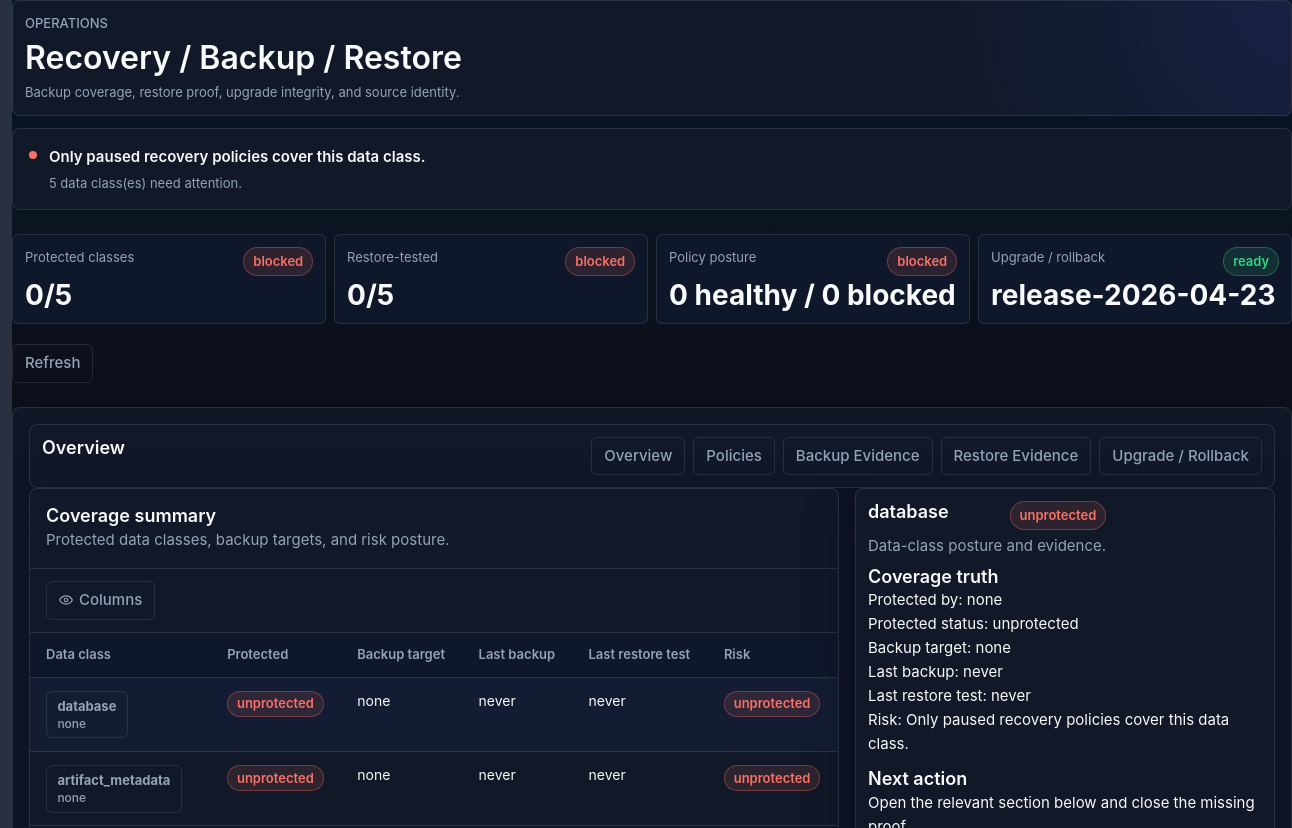
Test case: Recovery page › treats paused policies as not effective protection
The image size is (1292, 828).
Click the button "Policies" at point(734, 456), box [693,436,775,475]
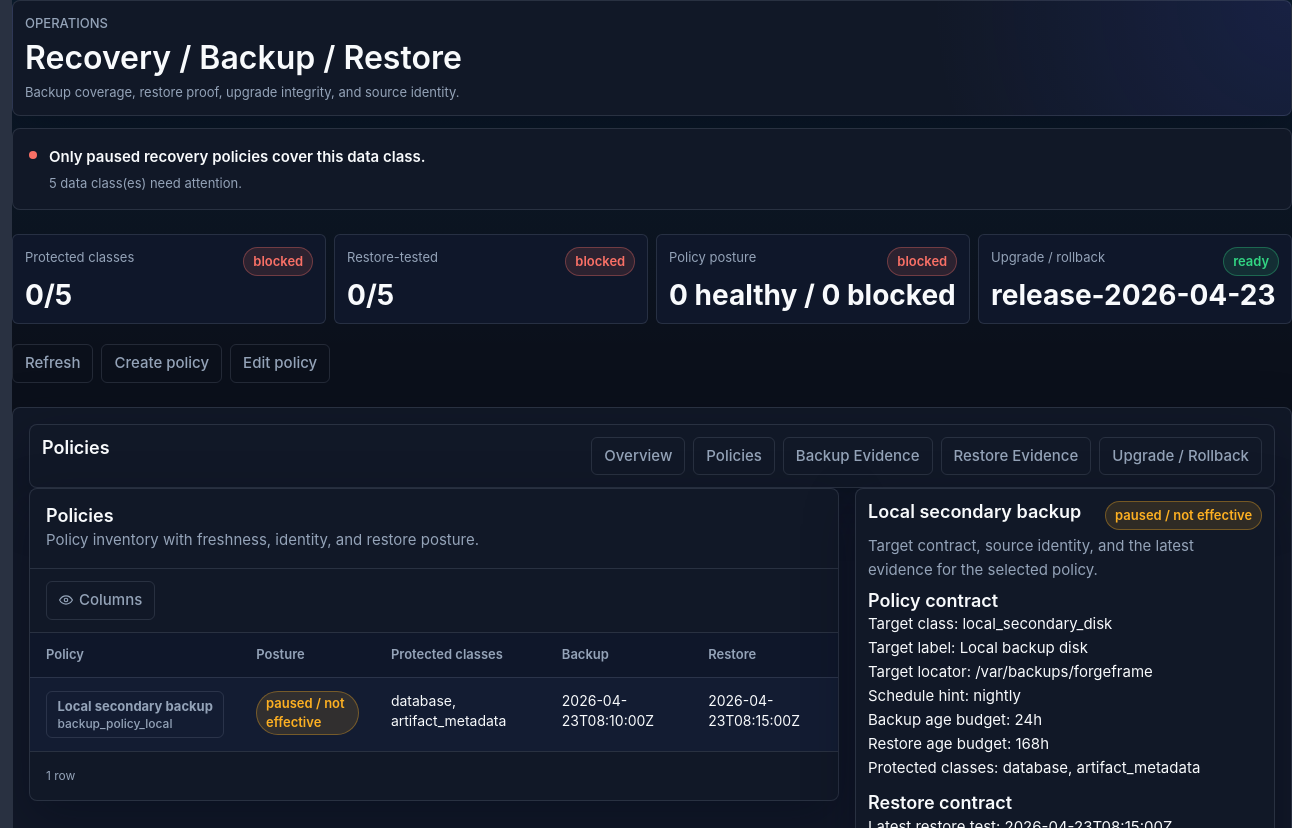
Expected: the text "paused / not effective" is shown, [256,690,359,735]
Click the button "Backup Evidence" at point(858, 456), box [783,436,932,475]
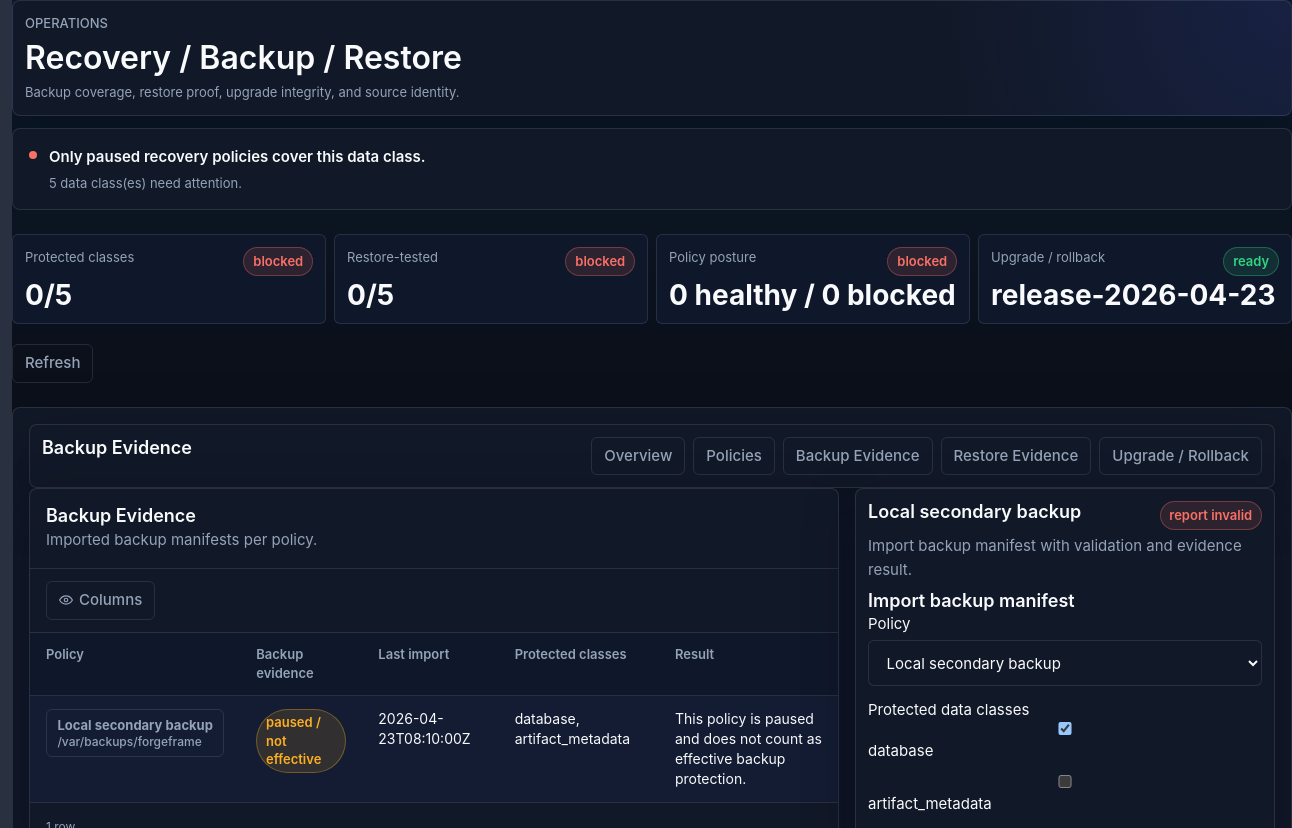
Expected: the text "paused / not effective" is shown, [256,709,346,772]
Expected: the text "does not count as effective backup protection" is shown, [675,710,822,787]
Click the button "Restore Evidence" at point(1016, 456), box [940,436,1091,475]
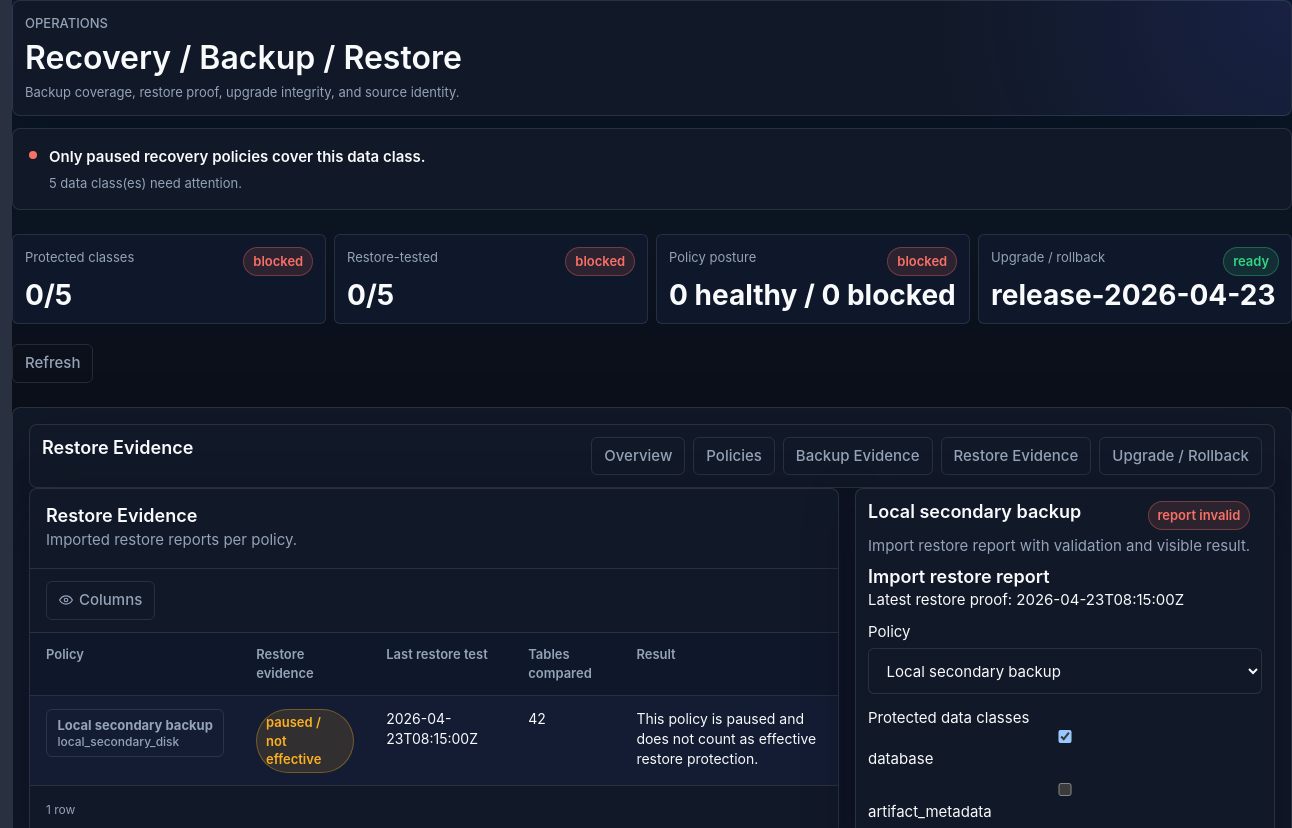
Expected: the text "paused / not effective" is shown, [256,709,354,772]
Expected: the text "does not count as effective restore protection" is shown, [636,710,816,767]
